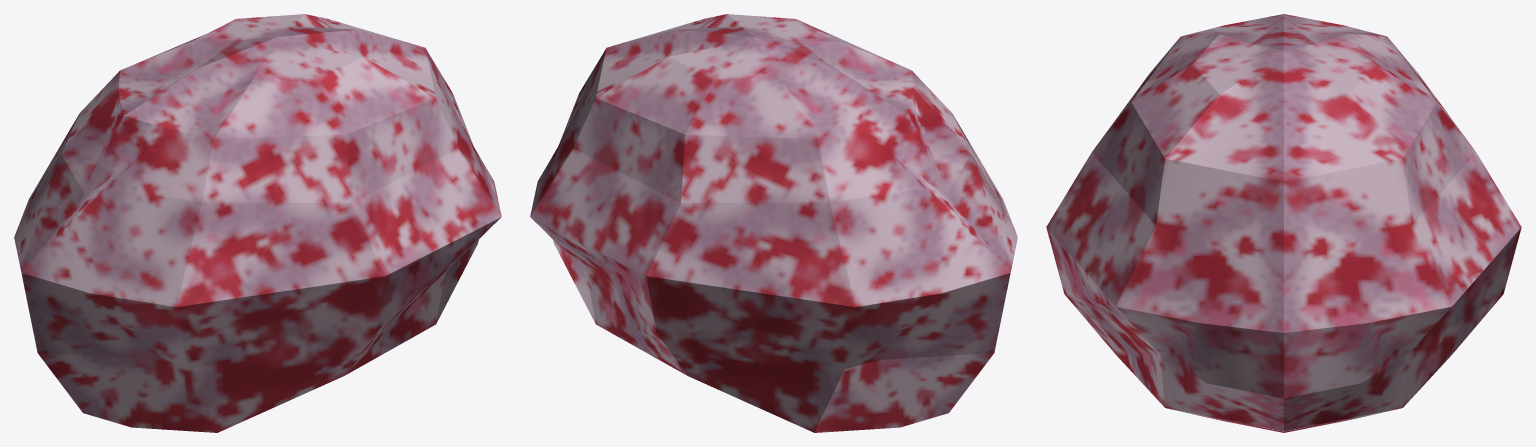
Rendered from hjärna gibb.fbx.
3 views of the same model, side by side, from view 1: azimuth 30°, elevation 25°; view 2: azimuth 150°, elevation 25°; view 3: azimuth 270°, elevation 25° (orthographic). The views are drawn at different scales.
Parts seen in each view (by area): view 1: pSphere2; view 2: pSphere2; view 3: pSphere2.
Part boxes in pixels (bbox=[...]): pSphere2: bbox=[14, 14, 501, 432]; pSphere2: bbox=[530, 14, 1017, 432]; pSphere2: bbox=[1046, 14, 1521, 432].
Size of the model in its own units: 2.16 by 1.56 by 1.79.
